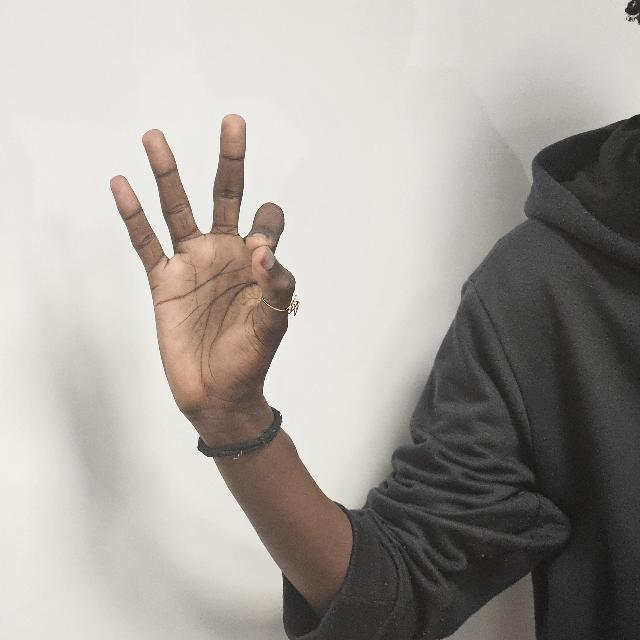Bolinha: (103, 110, 300, 442)
